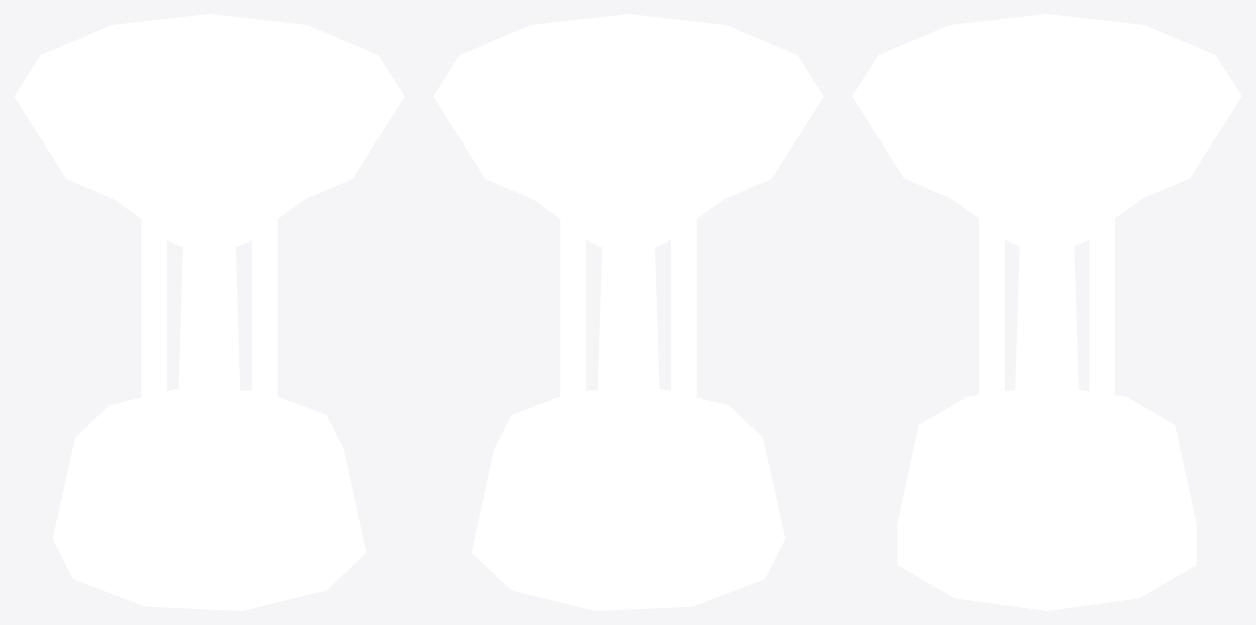
The model's file is kargan_brazier.glb.
3 renders of one model, left to right at view 1: azimuth 30°, elevation 25°; view 2: azimuth 150°, elevation 25°; view 3: azimuth 270°, elevation 25°, orthographic.
Visible parts, largest first — view 1: kargan_brazier; view 2: kargan_brazier; view 3: kargan_brazier.
Boxes of the visible parts, bbox=[...] form: kargan_brazier: bbox=[14, 14, 404, 610]; kargan_brazier: bbox=[433, 14, 823, 610]; kargan_brazier: bbox=[852, 14, 1241, 610].
Size of the model in its own units: 1.04 by 1.42 by 1.04.
Materials: 1 (1 with a texture image).
